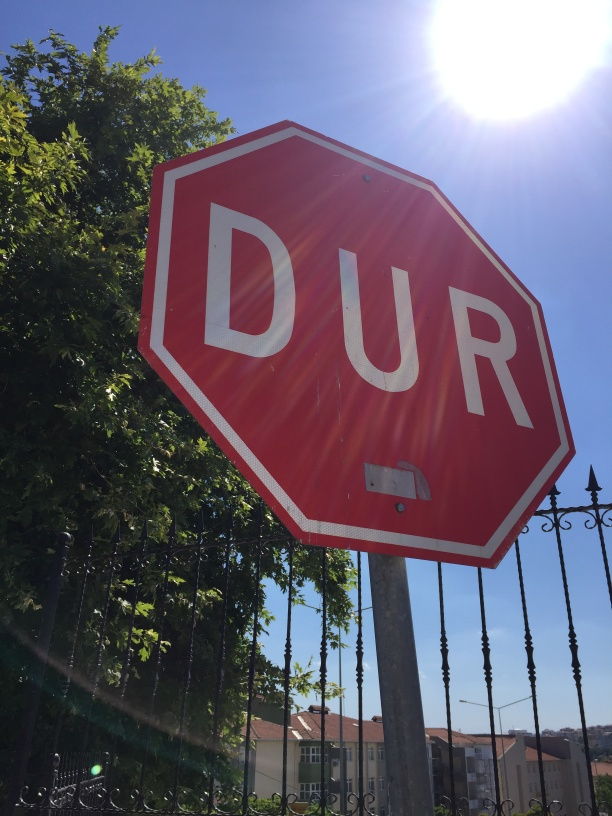arac_dur_isareti: (142, 60, 548, 636), (143, 126, 543, 618)
